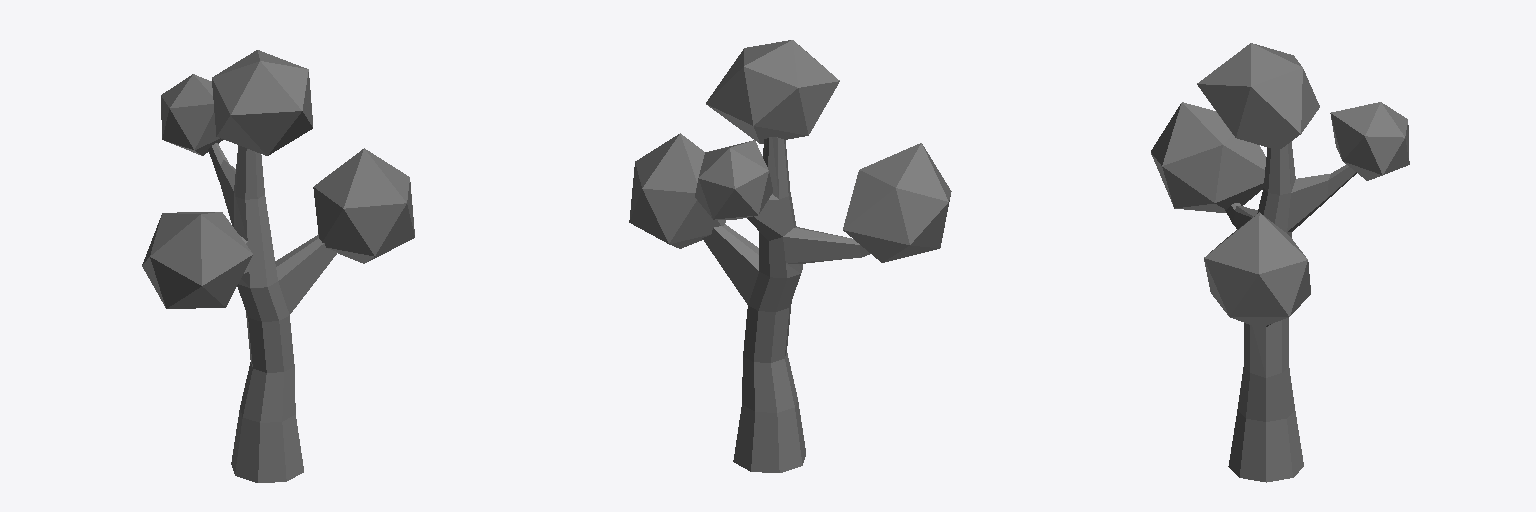
File: tree1.obj
3 views of the same model, side by side, from view 1: azimuth 30°, elevation 25°; view 2: azimuth 150°, elevation 25°; view 3: azimuth 270°, elevation 25° (orthographic).
Parts seen in each view (by area): view 1: Icosphere.001_Icosphere.002; view 2: Icosphere.001_Icosphere.002; view 3: Icosphere.001_Icosphere.002.
Part boxes in pixels (x1,y1,x2,y2): Icosphere.001_Icosphere.002: (142, 50, 414, 482); Icosphere.001_Icosphere.002: (629, 40, 951, 472); Icosphere.001_Icosphere.002: (1151, 43, 1409, 482).
Size of the model in its own units: 7.25 by 10.05 by 5.67.